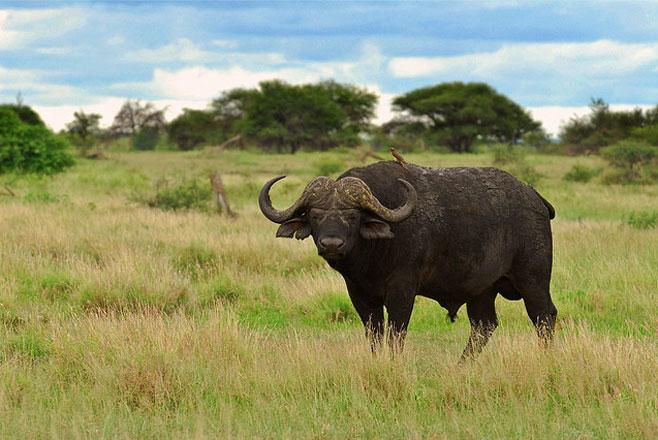Buffalo: (221, 85, 626, 395)
